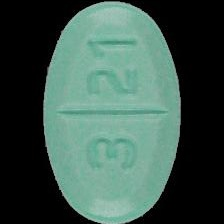10544-217: (0, 0, 224, 224)
